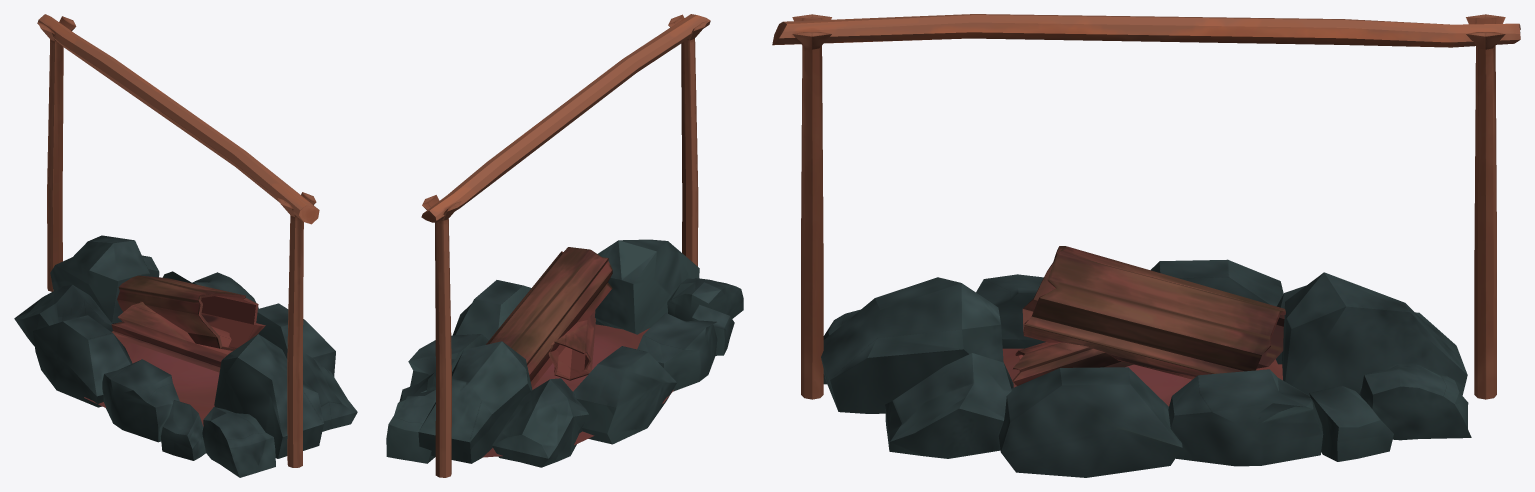
Rendered from camp fire 2.fbx.
The picture shows the model from 3 angles, left to right: view 1: azimuth 30°, elevation 25°; view 2: azimuth 150°, elevation 25°; view 3: azimuth 270°, elevation 25°; orthographic projection. The views are drawn at different scales.
Parts seen in each view (by area): view 1: kayu kanan; view 2: kayu kanan; view 3: kayu kanan.
Part boxes in pixels (box(x1,y1,x2,y2)): kayu kanan: box(14, 14, 357, 477); kayu kanan: box(386, 14, 743, 477); kayu kanan: box(772, 14, 1520, 477).
Size of the model in its own units: 58.5 by 71.55 by 125.
Materials: 1 (1 with a texture image).
